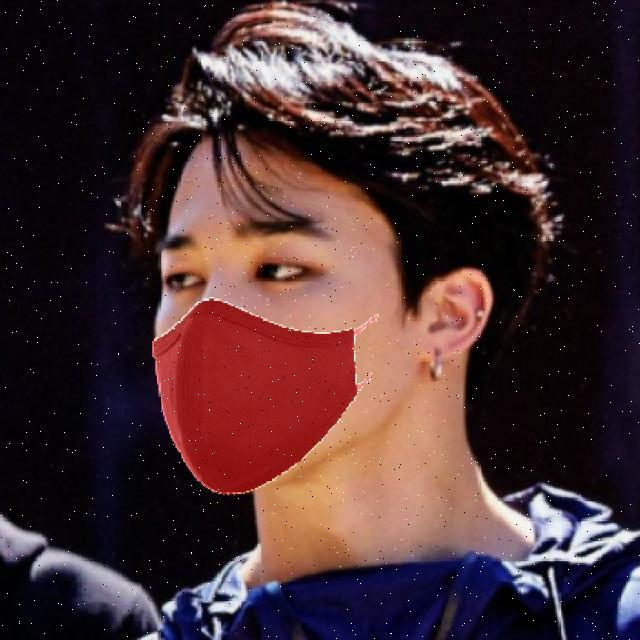1_mascarilla: (131, 299, 379, 495)
